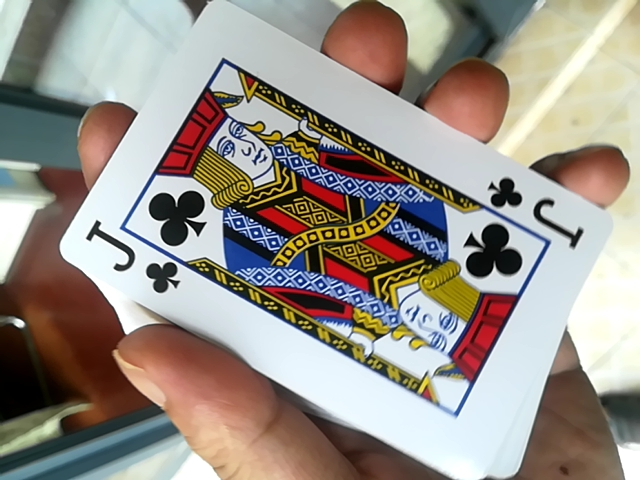mh j: (89, 14, 633, 472)
